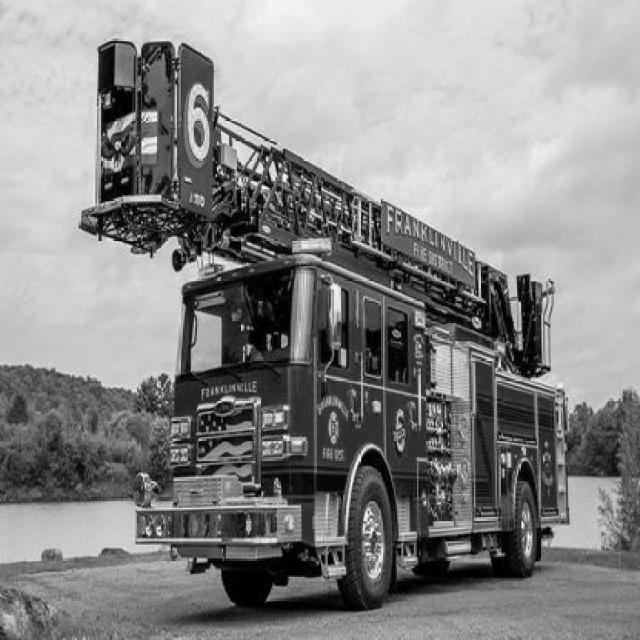Fire Truck: (79, 40, 572, 612)
